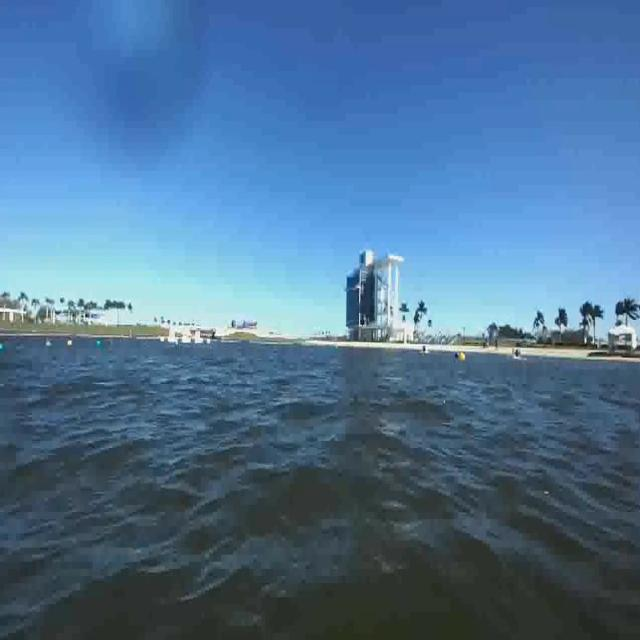yellow-buoy: (459, 351, 466, 362)
